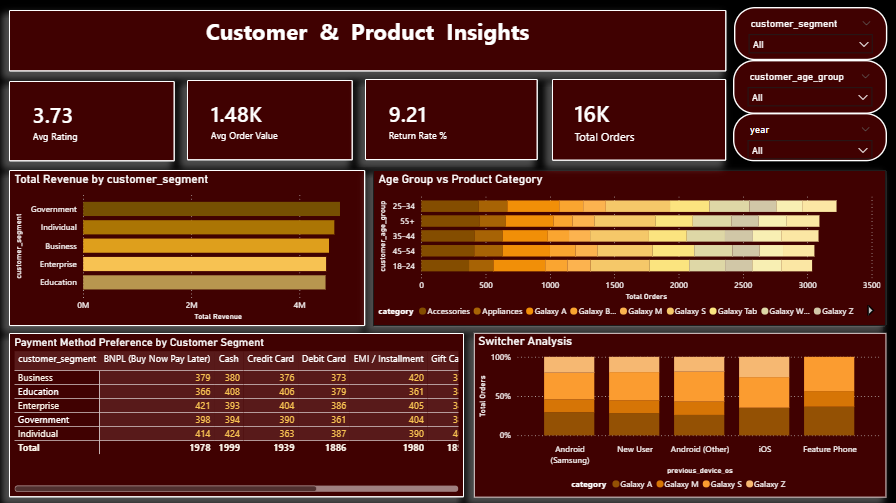

This screenshot's page, from the dashboard's own definition file:
{"tool":"powerbi","page":{"name":"Customer & Product Insights ","canvas":[1280,720],"ordinal":2},"visuals":[{"type":"textbox","box":[12.8,14.2,1024.9,87.9],"z":0},{"type":"cardVisual","fields":{"Data":["samsung_sales.Avg Rating"]},"box":[12.5,115.8,236.6,114.6],"z":1000},{"type":"cardVisual","fields":{"Data":["samsung_sales.Avg Order Value"]},"box":[267.7,114.6,236.6,114.6],"z":2000},{"type":"cardVisual","fields":{"Data":["samsung_sales.Return Rate %"]},"box":[521.7,113.3,246.5,115.8],"z":3000},{"type":"barChart","fields":{"Category":["samsung_sales.customer_segment"],"Y":["samsung_sales.Total Revenue"]},"box":[12.5,242.8,509.3,222.9],"z":4000},{"type":"barChart","title":"Age Group vs Product Category","fields":{"Category":["samsung_sales.customer_age_group"],"Y":["samsung_sales.Total Orders"],"Series":["samsung_sales.category"]},"box":[532.9,242.8,733.4,222.9],"z":5000},{"type":"hundredPercentStackedColumnChart","title":"Switcher Analysis","fields":{"Category":["samsung_sales.previous_device_os"],"Y":["samsung_sales.Total Orders"],"Series":["samsung_sales.category"]},"box":[677.4,475.6,588.9,235.3],"z":6000},{"type":"pivotTable","title":"Payment Method Preference by Customer Segment","fields":{"Rows":["samsung_sales.customer_segment"],"Columns":["samsung_sales.payment_method"],"Values":["samsung_sales.Total Orders"]},"box":[12.5,475.6,650,235.3],"z":7000},{"type":"slicer","fields":{"Values":["samsung_sales.customer_segment"]},"box":[1047.9,9.4,219.5,76.3],"z":8000},{"type":"slicer","fields":{"Values":["samsung_sales.customer_age_group"]},"box":[1047.5,85,219.7,76.5],"z":9000},{"type":"slicer","fields":{"Values":["samsung_sales.year"]},"box":[1047.5,161.6,219.7,69.5],"z":10000},{"type":"cardVisual","fields":{"Data":["samsung_sales.Total Orders"]},"box":[788.2,113.3,249,117],"z":11000}]}

Visuals, with their boxes in screenshot pixels (x1, y1, x2, y2), scaled from the page's 1280x720 canvas onto the 896x503 screenshot:
textbox: detection(9, 10, 726, 71)
cardVisual - samsung_sales.Avg Rating: detection(9, 81, 174, 161)
cardVisual - samsung_sales.Avg Order Value: detection(187, 80, 353, 160)
cardVisual - samsung_sales.Return Rate %: detection(365, 79, 538, 160)
barChart - samsung_sales.customer_segment x samsung_sales.Total Revenue: detection(9, 170, 365, 325)
"Age Group vs Product Category" barChart: detection(373, 170, 886, 325)
"Switcher Analysis" hundredPercentStackedColumnChart: detection(474, 332, 886, 497)
"Payment Method Preference by Customer Segment" pivotTable: detection(9, 332, 464, 497)
slicer - samsung_sales.customer_segment: detection(734, 7, 887, 60)
slicer - samsung_sales.customer_age_group: detection(733, 59, 887, 113)
slicer - samsung_sales.year: detection(733, 113, 887, 161)
cardVisual - samsung_sales.Total Orders: detection(552, 79, 726, 161)
